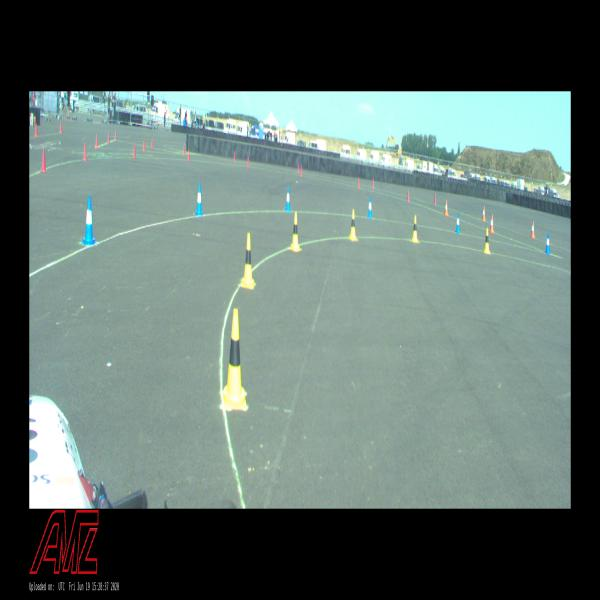blue_cone: (81, 196, 97, 245), (195, 183, 203, 215), (285, 186, 291, 212), (456, 212, 460, 234), (368, 196, 372, 218), (546, 233, 550, 254)
orange_cone: (530, 221, 536, 238), (490, 214, 494, 233), (444, 200, 448, 216), (482, 206, 486, 221)
unknown_cone: (40, 148, 48, 173), (83, 143, 87, 161), (94, 133, 98, 148), (132, 143, 136, 158), (34, 124, 38, 137), (142, 139, 146, 151), (187, 148, 190, 161), (233, 150, 236, 162), (107, 132, 110, 143), (183, 144, 186, 155), (357, 177, 360, 188), (114, 130, 117, 140), (151, 138, 154, 148), (407, 190, 409, 202), (434, 193, 436, 205), (300, 164, 302, 176), (60, 122, 62, 133), (247, 156, 249, 167), (297, 162, 299, 172), (372, 178, 374, 188)
yellow_cone: (224, 309, 246, 410), (241, 233, 255, 289), (290, 212, 300, 251), (349, 209, 357, 241), (412, 215, 418, 243), (484, 228, 490, 254)
